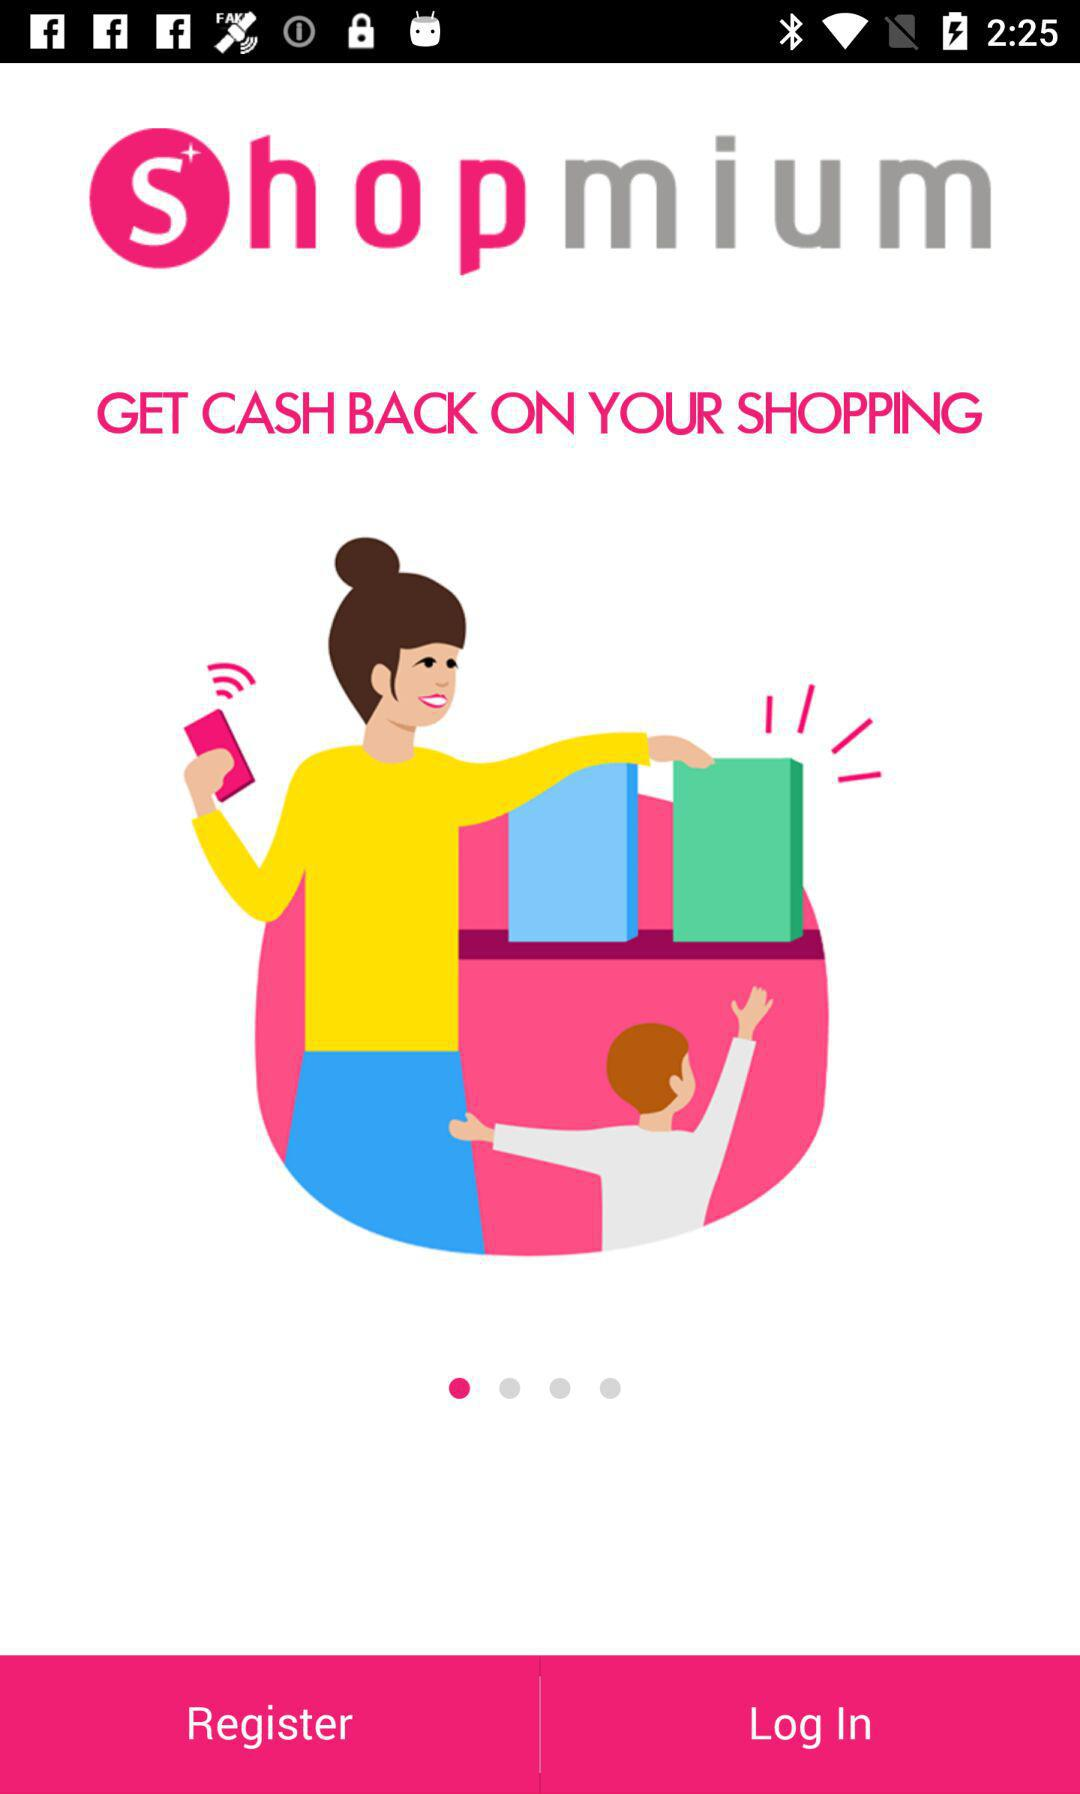Image: (182, 537, 884, 1257), (88, 127, 992, 276)
PageIndicator: (448, 1378, 623, 1401)
Text: (97, 391, 984, 436)
TextButton: (1, 1656, 541, 1794), (541, 1656, 1080, 1794)
UpperTaskBar: (1, 1, 1080, 64)
